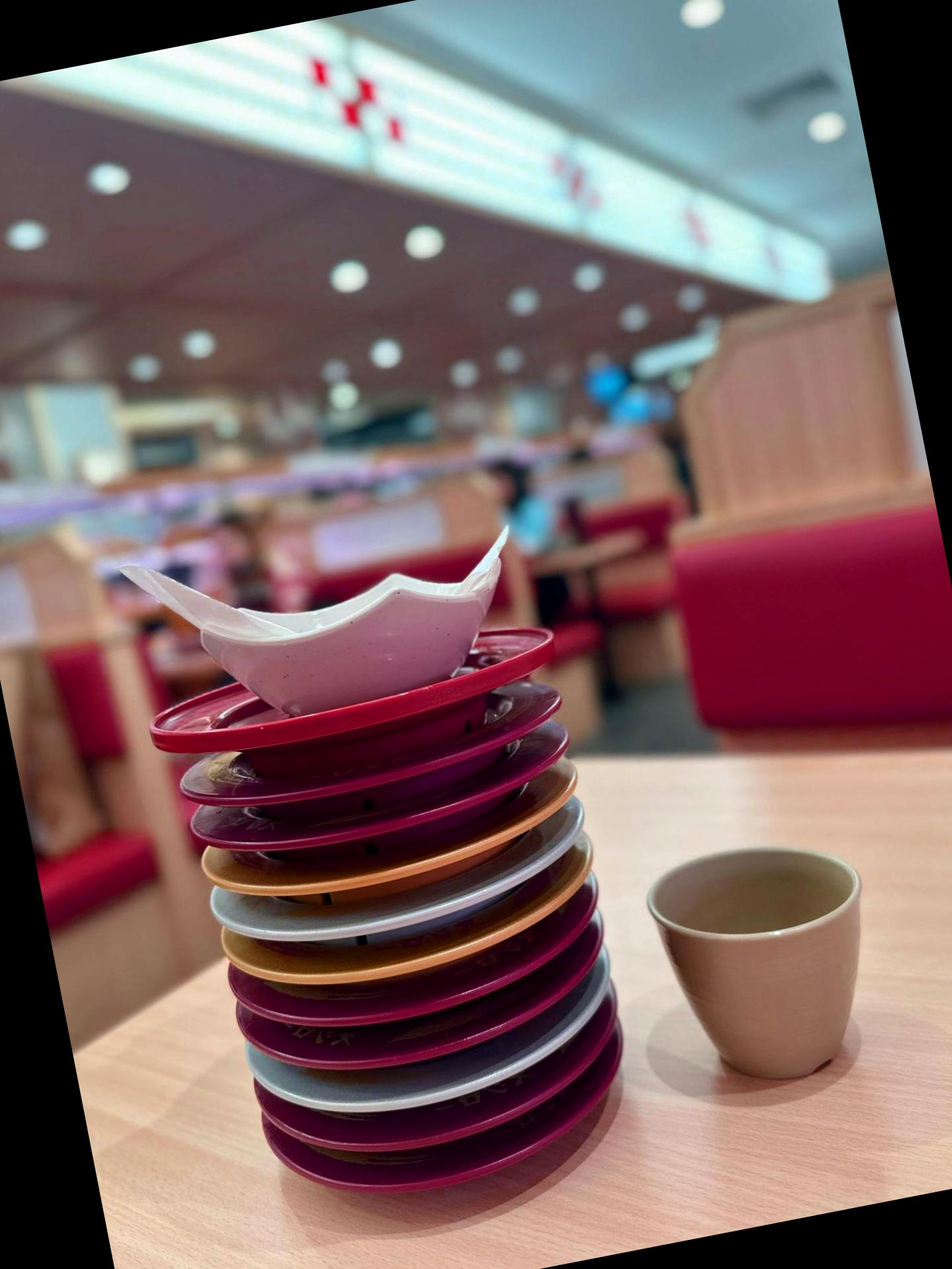Jangold: (226, 916, 509, 1010), (242, 828, 482, 908)
Janred: (160, 645, 535, 763), (187, 715, 533, 821), (231, 779, 516, 865), (259, 957, 529, 1039), (277, 1129, 533, 1213), (293, 1085, 533, 1161), (286, 996, 522, 1070)
Janwhite: (234, 869, 504, 956), (289, 1041, 530, 1124)
